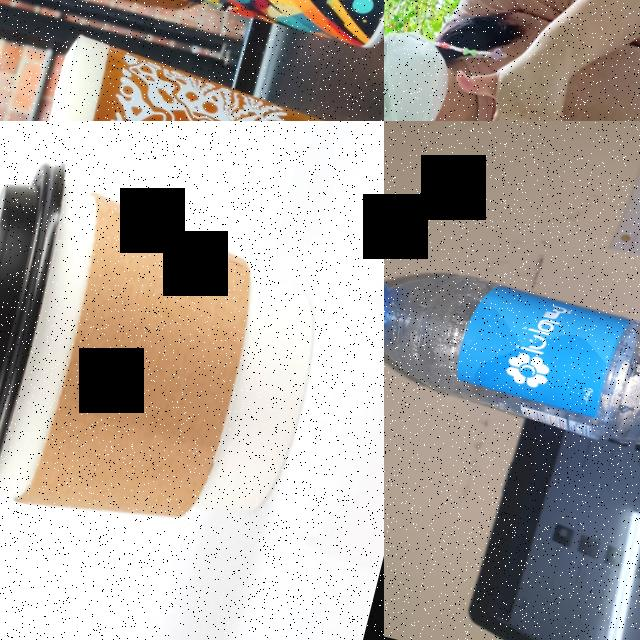bottle: (384, 240, 640, 520)
can: (14, 0, 384, 60)
cup: (0, 141, 348, 584), (19, 31, 384, 121)
